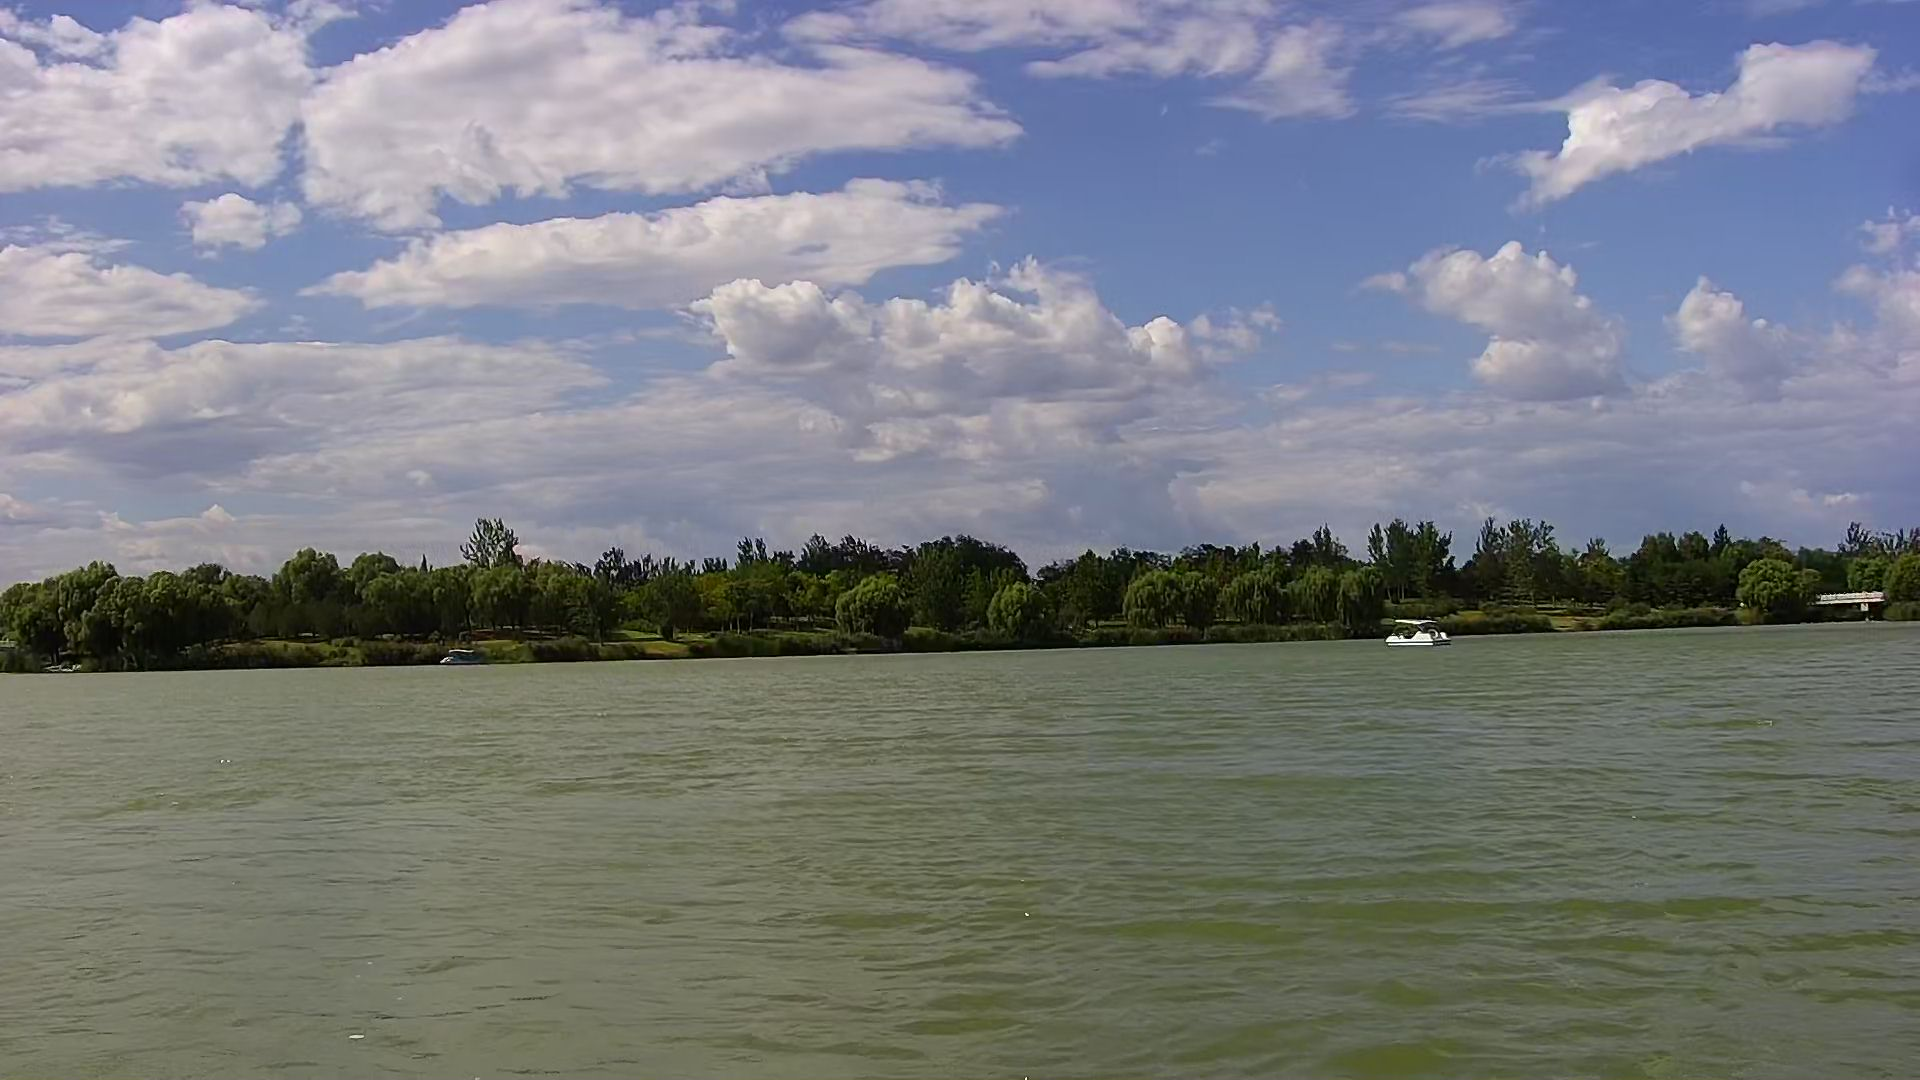boat: (1377, 615, 1455, 649), (436, 640, 501, 669)
